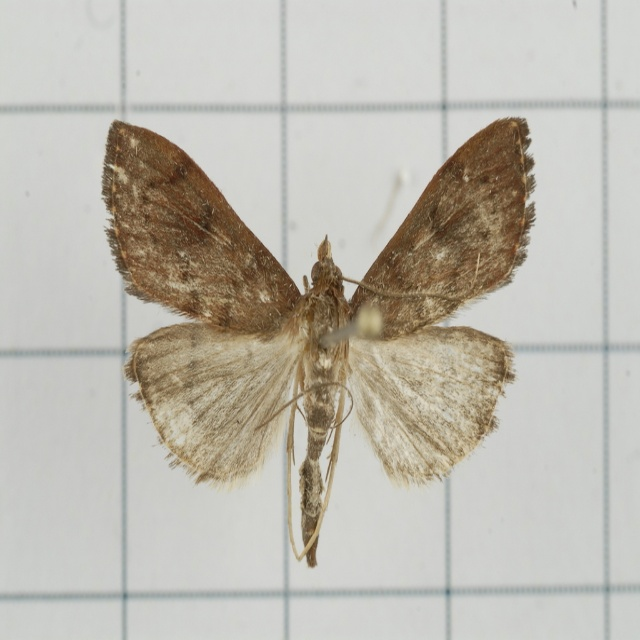Butterfly: (99, 121, 541, 566)
